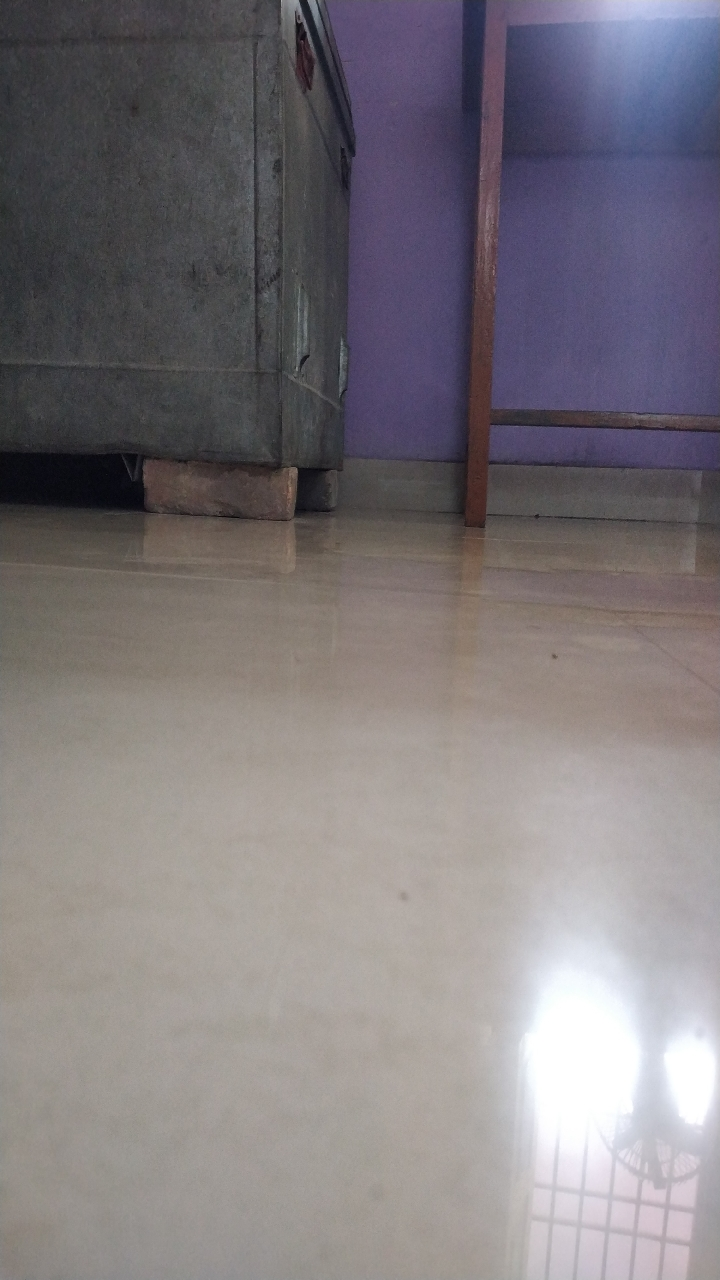Furnitures: (22, 219, 362, 527), (452, 265, 720, 534)
